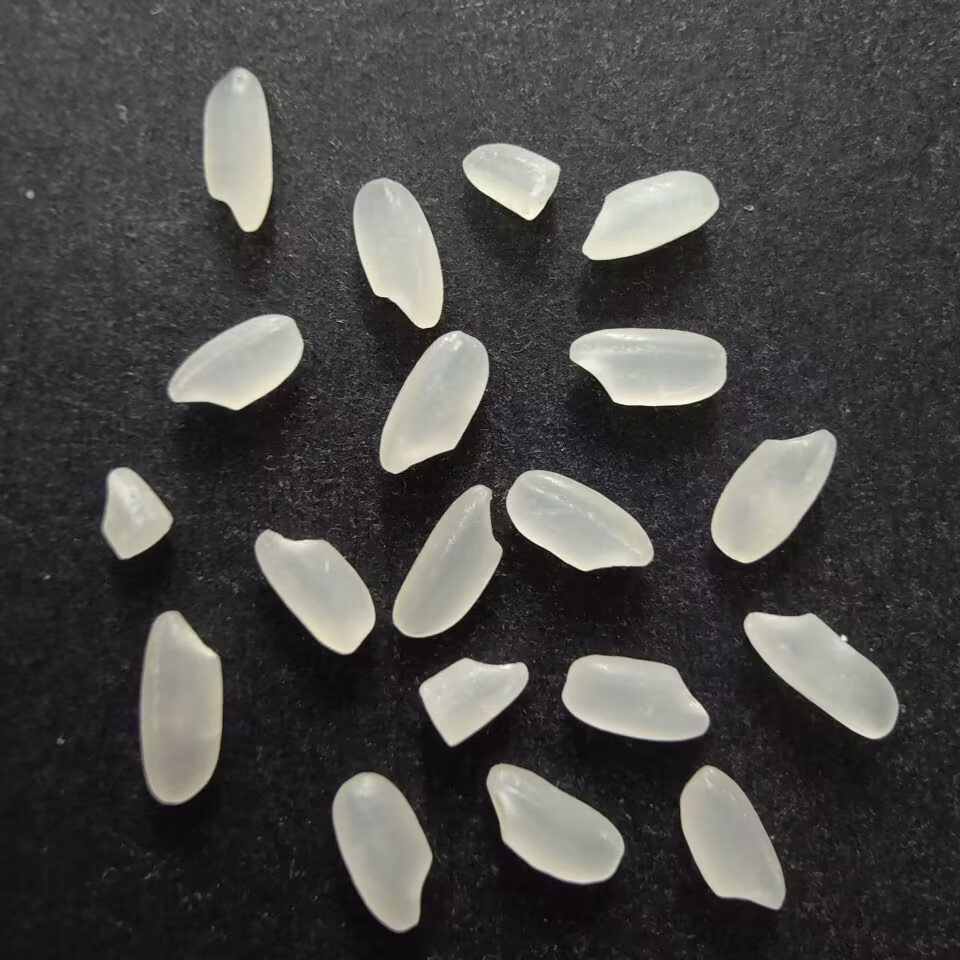broken: (414, 653, 536, 751), (458, 139, 565, 225), (97, 465, 177, 562)
rice: (740, 607, 902, 744), (707, 424, 841, 563), (388, 481, 506, 638), (481, 761, 628, 886), (329, 769, 437, 935), (138, 608, 225, 807), (676, 761, 787, 916), (504, 466, 657, 577), (376, 327, 489, 477), (253, 526, 381, 657), (349, 176, 445, 331), (567, 323, 729, 413), (164, 312, 307, 410), (577, 168, 726, 262), (560, 652, 711, 742), (199, 64, 276, 237)
